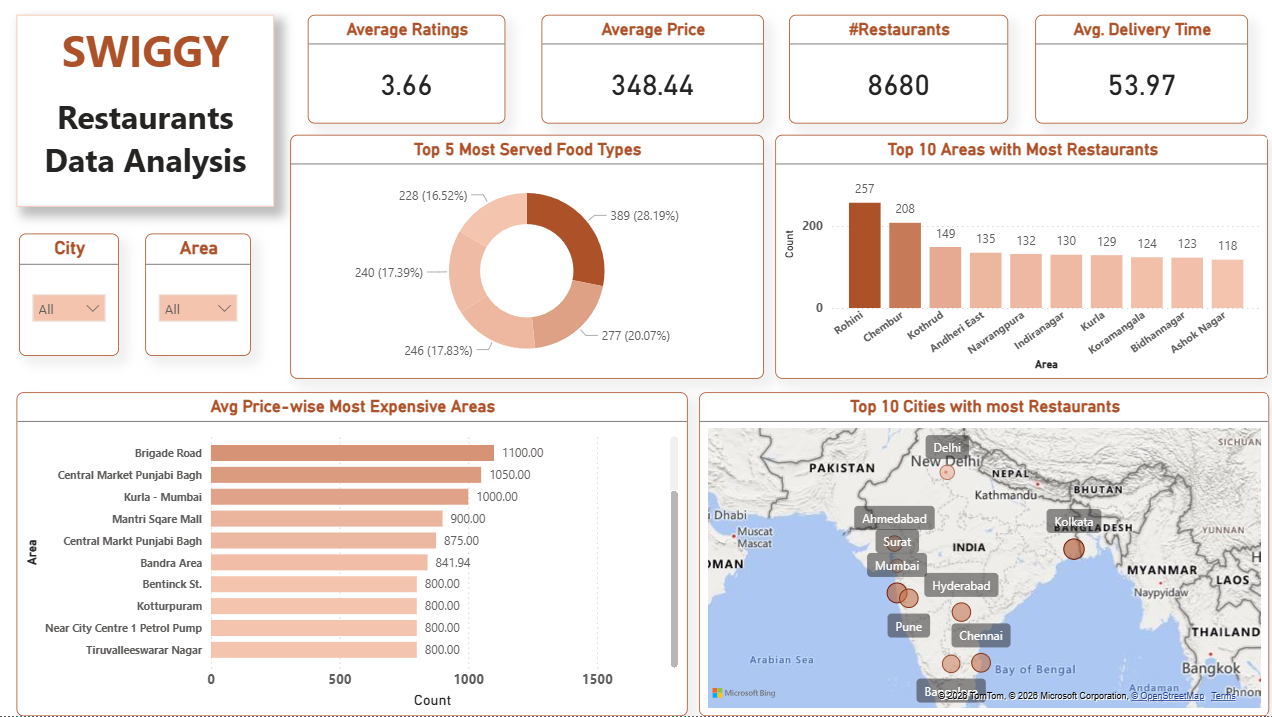

The dashboard page shown, as its layout file describes it:
{"tool":"powerbi","page":{"name":"Swiggy Dashboard","canvas":[1280,720],"ordinal":0},"visuals":[{"type":"card","title":"Average Ratings","fields":{"Values":["Avg(swiggy.Avg ratings)"]},"box":[308.7,19.2,197.6,108.4],"z":0},{"type":"card","title":"Average Price","fields":{"Values":["Avg(swiggy.Price)"]},"box":[542,19.2,222.3,108.4],"z":1000},{"type":"card","title":"#Restaurants","fields":{"Values":["Count(swiggy.ID)"]},"box":[790.4,19.2,219.6,108.4],"z":2000},{"type":"card","title":"Avg. Delivery Time","fields":{"Values":["Avg(swiggy.Delivery time)"]},"box":[1036,19.2,212.7,108.4],"z":3000},{"type":"columnChart","title":"Top 10 Areas with Most Restaurants","fields":{"Category":["swiggy.Area"],"Y":["CountNonNull(swiggy.ID)"]},"box":[776.7,138.6,494,244.3],"z":4000},{"type":"donutChart","title":"Top 5 Most Served Food Types","fields":{"Category":["swiggy.Food type"],"Y":["CountNonNull(swiggy.ID)"]},"box":[290.9,138.6,473.4,244.3],"z":5000},{"type":"map","title":"Top 10 Cities with most Restaurants","fields":{"Category":["swiggy.City"],"Size":["CountNonNull(swiggy.ID)"]},"box":[699.8,396.6,570.8,323.8],"z":6000},{"type":"clusteredBarChart","title":"Avg Price-wise Most Expensive Areas","fields":{"Category":["swiggy.Area"],"Y":["Avg(swiggy.Price)"]},"box":[17.8,396.6,671,323.8],"z":6001},{"type":"textbox","box":[17.8,19.2,258,192.1],"z":6002},{"type":"slicer","title":"City","fields":{"Values":["swiggy.City"]},"box":[20.6,237.4,100.2,122.1],"z":6003},{"type":"slicer","title":"Area","fields":{"Values":["swiggy.Area"]},"box":[146.8,237.4,105.7,122.1],"z":6004}]}

Visuals, with their boxes in screenshot pixels (x1, y1, x2, y2), scaled from the page's 1280x720 canvas onto the 1272x717 screenshot:
"Average Ratings" card: Rect(307, 19, 503, 127)
"Average Price" card: Rect(539, 19, 760, 127)
"#Restaurants" card: Rect(785, 19, 1004, 127)
"Avg. Delivery Time" card: Rect(1030, 19, 1241, 127)
"Top 10 Areas with Most Restaurants" columnChart: Rect(772, 138, 1263, 381)
"Top 5 Most Served Food Types" donutChart: Rect(289, 138, 760, 381)
"Top 10 Cities with most Restaurants" map: Rect(695, 395, 1263, 716)
"Avg Price-wise Most Expensive Areas" clusteredBarChart: Rect(18, 395, 684, 716)
textbox: Rect(18, 19, 274, 210)
"City" slicer: Rect(20, 236, 120, 358)
"Area" slicer: Rect(146, 236, 251, 358)
